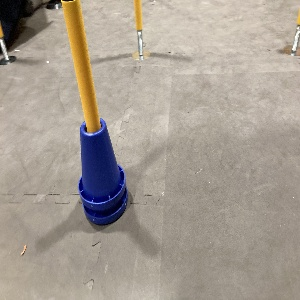Blue_2: (74, 117, 130, 228)
